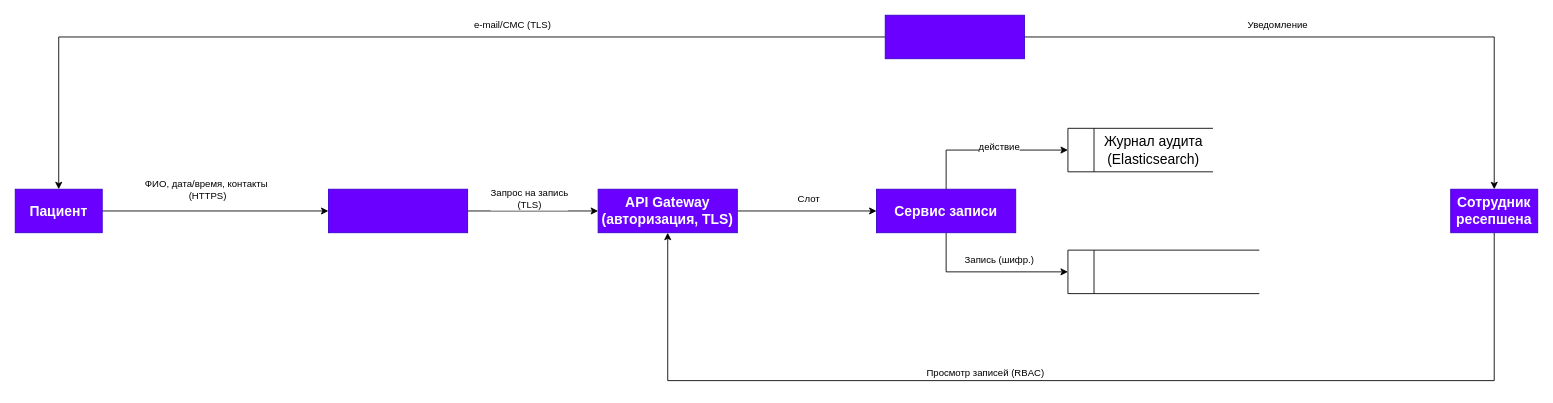
Some shapes in this 1553 by 403 pixel diagram are drawn without their labels. Here are the shapes that lost their labels. From the top down, the box of each, then its label:
(884, 14, 1024, 59): Сервис уведомлений
(328, 188, 468, 233): Портал пациента (HTTPS, 2FA)
(1067, 249, 1259, 294): БД PG (шифрование колонок)
